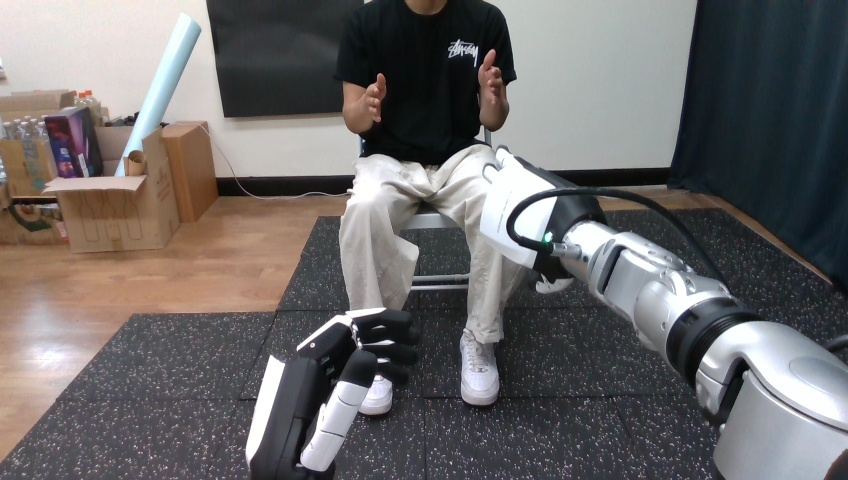left robot hand: (480, 147, 847, 478), (246, 308, 418, 478)
